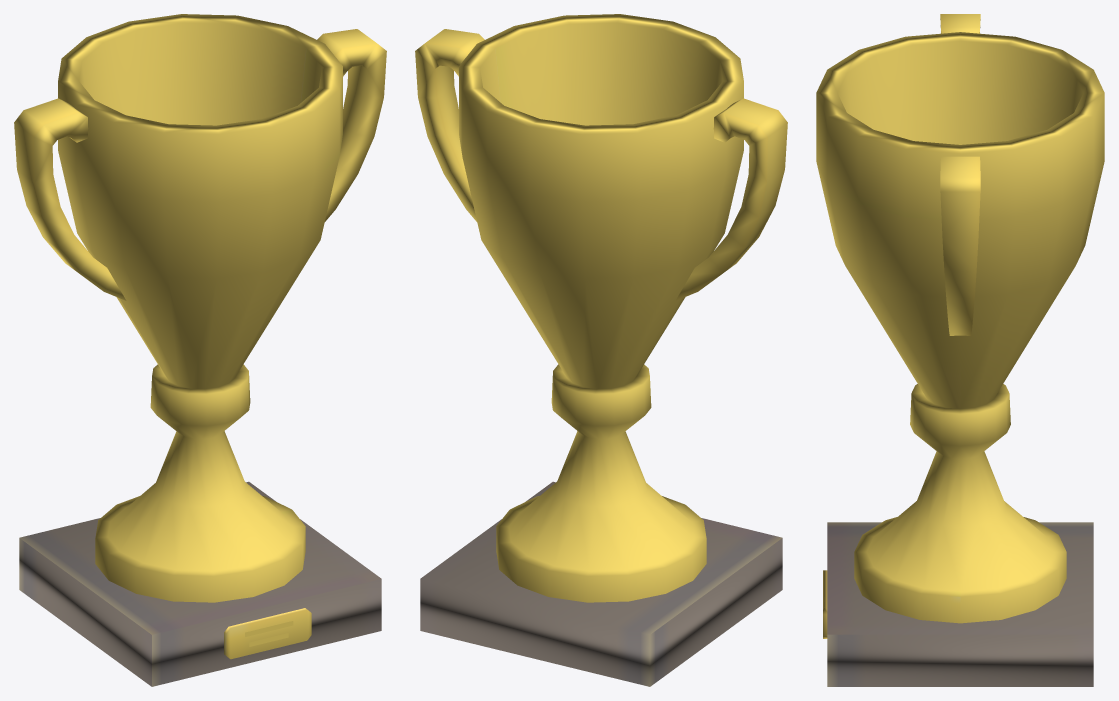
Rendered from trofeo.glb.
3 views of the same model, side by side, from view 1: azimuth 30°, elevation 25°; view 2: azimuth 150°, elevation 25°; view 3: azimuth 270°, elevation 25° (orthographic).
Parts seen in each view (by area): view 1: copa; view 2: copa; view 3: copa.
Part boxes in pixels (box(x1,y1,x2,y2)): copa: box(14, 14, 386, 686); copa: box(415, 14, 787, 686); copa: box(816, 14, 1104, 686).
Bounding box in the file's own units: 0.4584 × 0.667 × 0.3238.
1 material, 1 textured.
